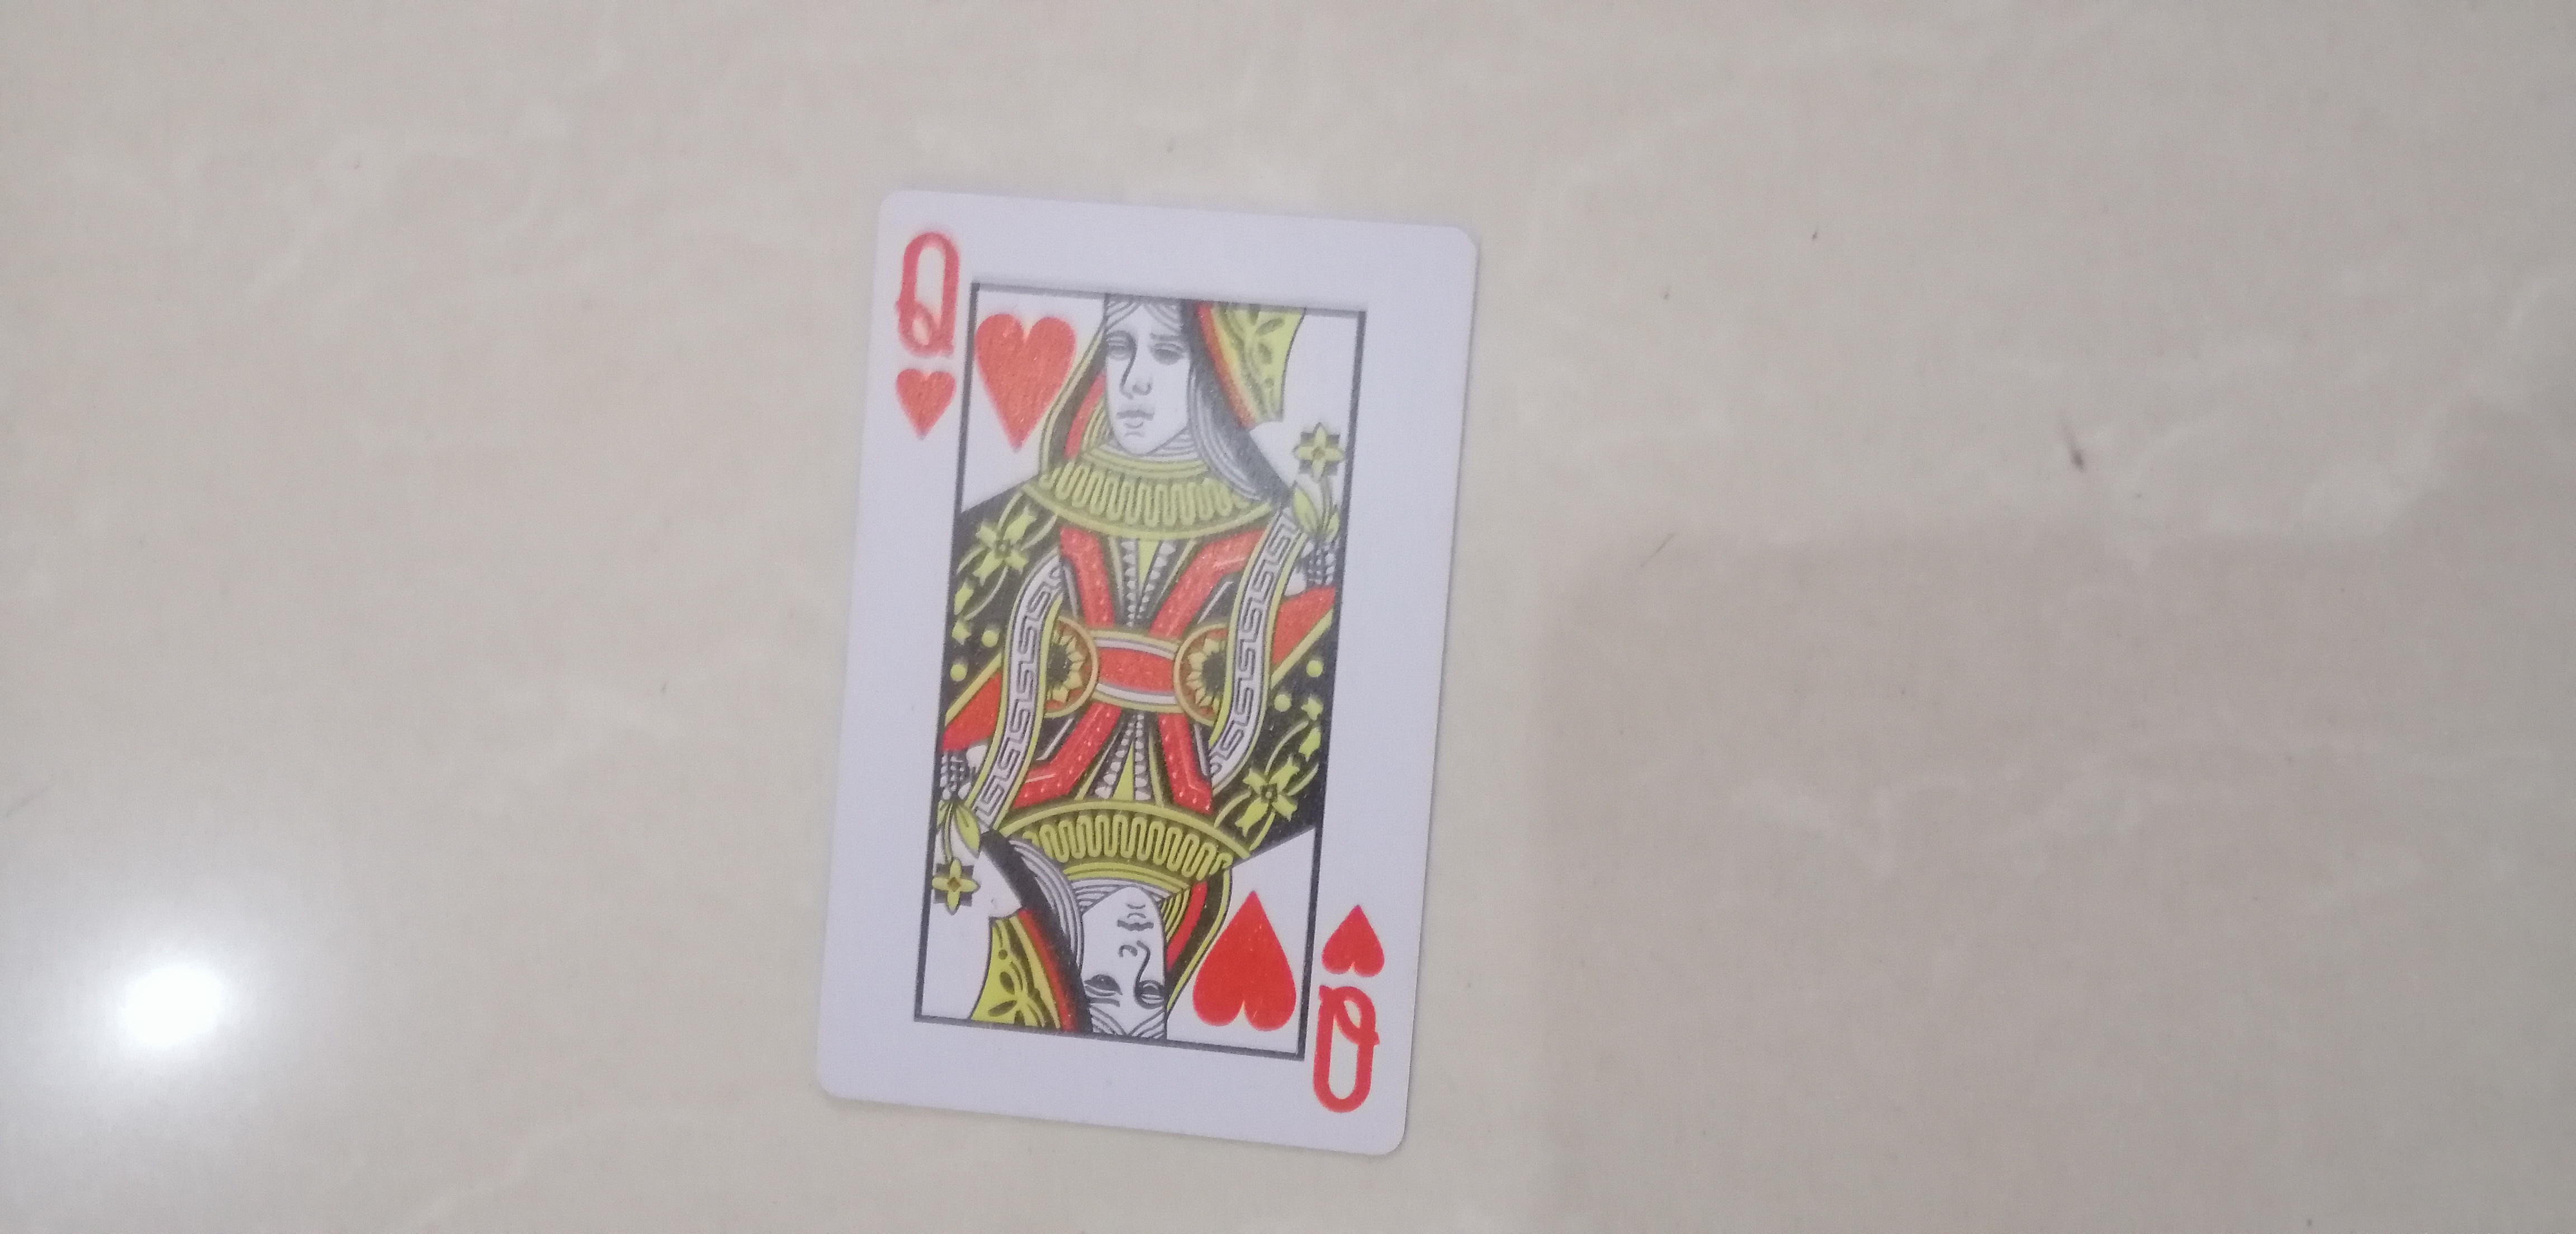queen: (823, 173, 1452, 1158)
